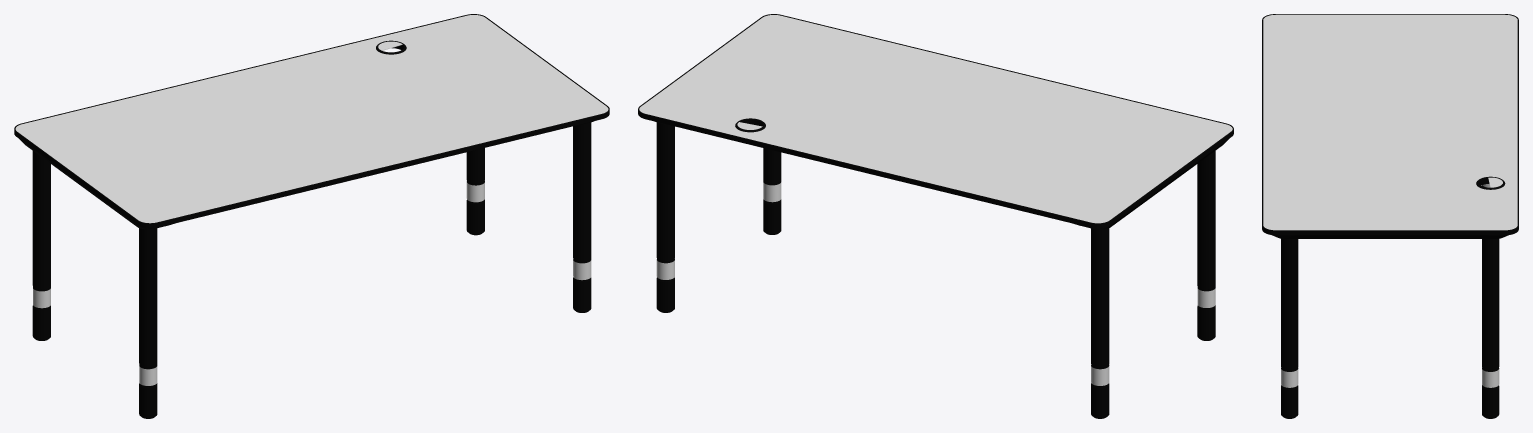
File: OfficeTable.fbx
3 views of the same model, side by side, from view 1: azimuth 30°, elevation 25°; view 2: azimuth 150°, elevation 25°; view 3: azimuth 270°, elevation 25° (orthographic). The views are drawn at different scales.
Visible parts, largest first — view 1: OfficeTable; view 2: OfficeTable; view 3: OfficeTable.
Part boxes in pixels (x1,y1,x2,y2): OfficeTable: [14, 14, 609, 418]; OfficeTable: [638, 14, 1233, 418]; OfficeTable: [1262, 14, 1518, 418].
Bounding box in the file's own units: 2.57 × 1.29 × 1.08.
